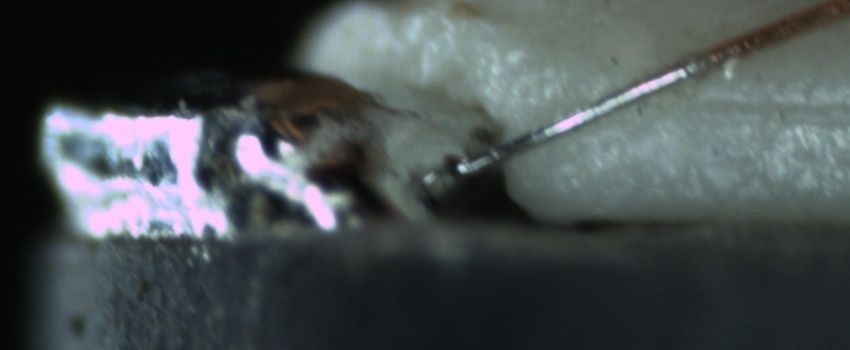DL: (675, 69, 846, 137)
TS: (436, 49, 698, 189)
TTCW: (454, 27, 745, 199)
